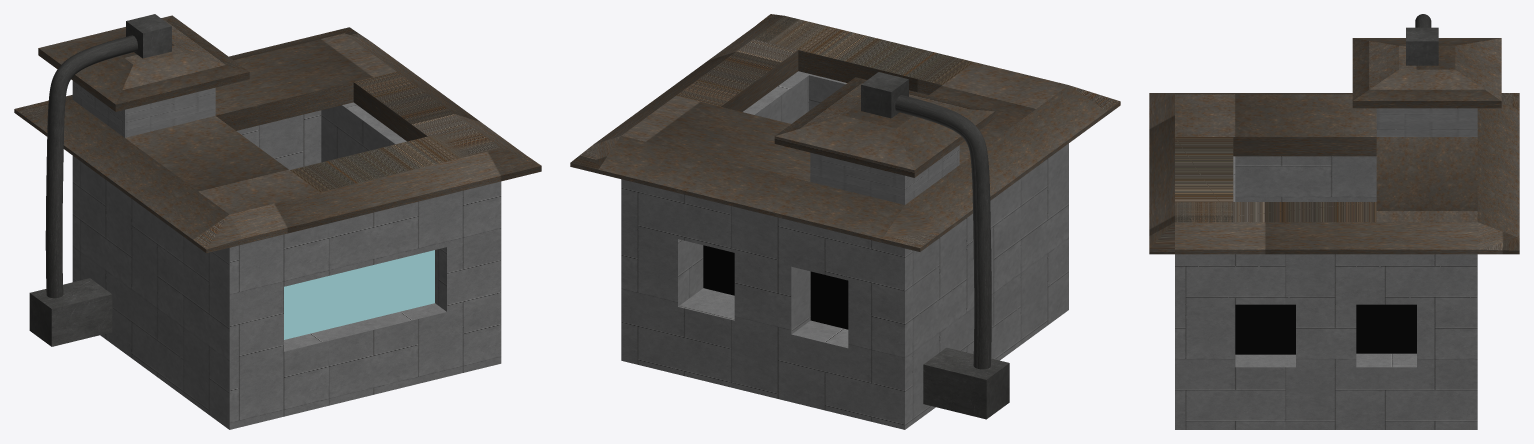
The model's file is biomass_plant_small.glb.
3 renders of one model, left to right at view 1: azimuth 30°, elevation 25°; view 2: azimuth 150°, elevation 25°; view 3: azimuth 270°, elevation 25°, orthographic. The views are drawn at different scales.
Visible parts, largest first — view 1: Cube, Cube.002, NurbsPath, Cube.004, Cube.003; view 2: Cube, Cube.002, NurbsPath, Cube.004, Cube.003; view 3: Cube.002, Cube, Cube.003.
Part boxes in pixels (box(x1,y1,x2,y2)): Cube: box(72, 102, 501, 429); Cube.002: box(14, 15, 541, 253); NurbsPath: box(45, 35, 137, 298); Cube.004: box(29, 278, 112, 346); Cube.003: box(126, 14, 171, 58); Cube: box(621, 71, 1068, 429); Cube.002: box(570, 14, 1120, 251); NurbsPath: box(895, 95, 991, 369); Cube.004: box(923, 347, 1009, 419); Cube.003: box(861, 72, 908, 118); Cube.002: box(1149, 38, 1519, 254); Cube: box(1175, 156, 1477, 429); Cube.003: box(1406, 27, 1438, 65).
Size of the model in its own units: 2.64 by 2.11 by 2.45.
16 materials, 6 textured.
